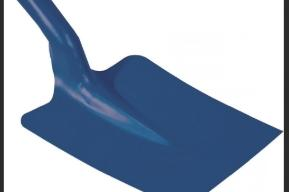PELLE: (0, 3, 282, 192)
